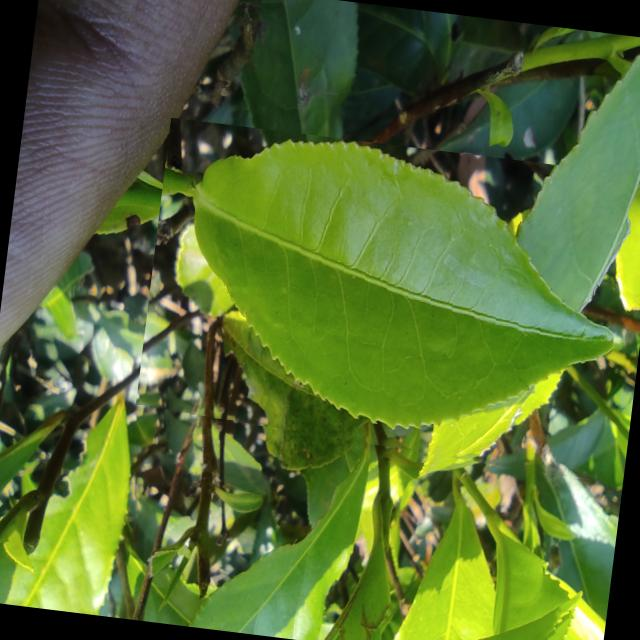Category C(4-7 days): (132, 117, 640, 486)
